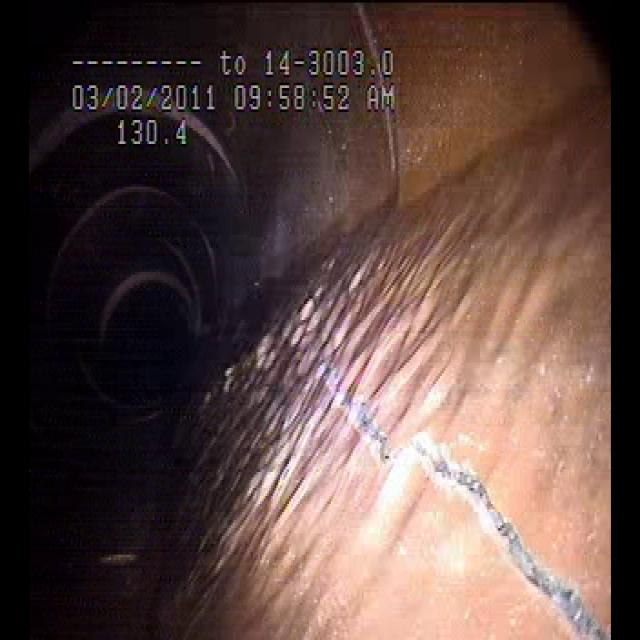Fracture: (307, 288, 581, 620)
